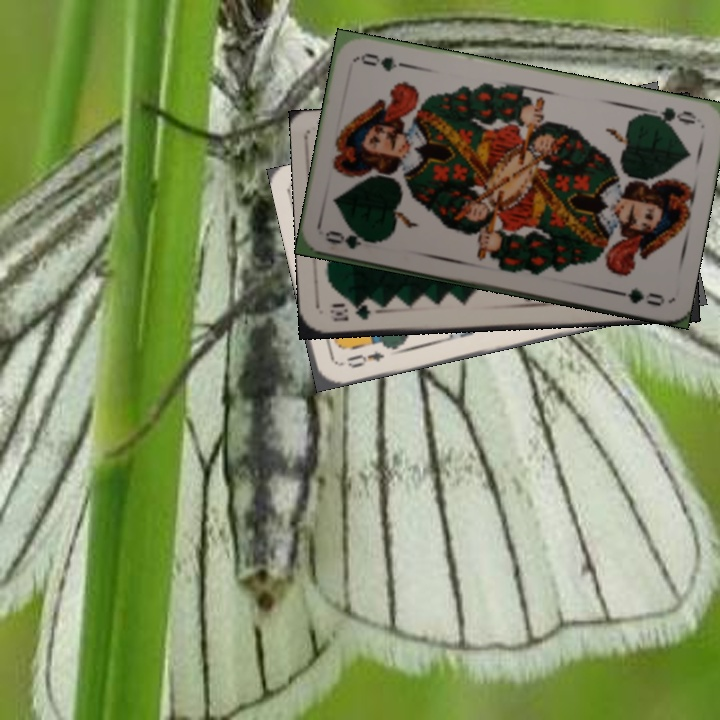EO: (342, 346, 388, 371)
G10: (326, 300, 373, 324)
GO: (322, 226, 382, 252), (642, 103, 699, 128)
